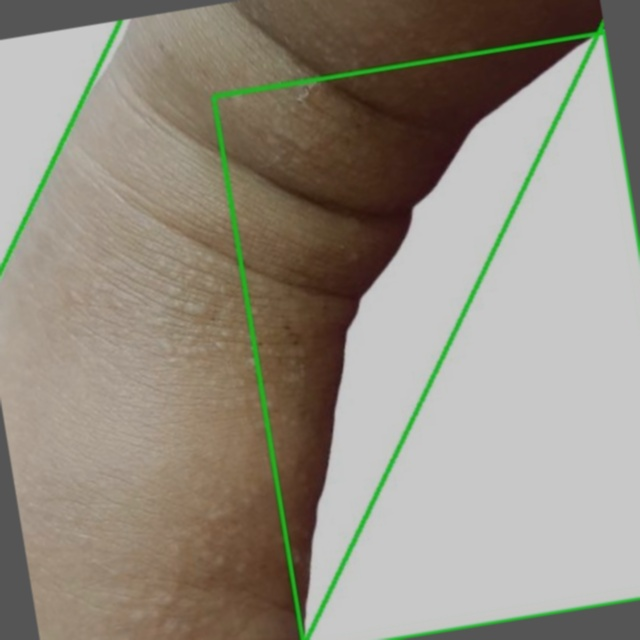Scabies: (13, 0, 582, 639), (213, 32, 639, 639)
